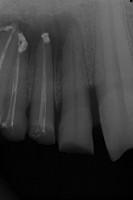Furcation Involvement: (1, 10, 80, 80)
